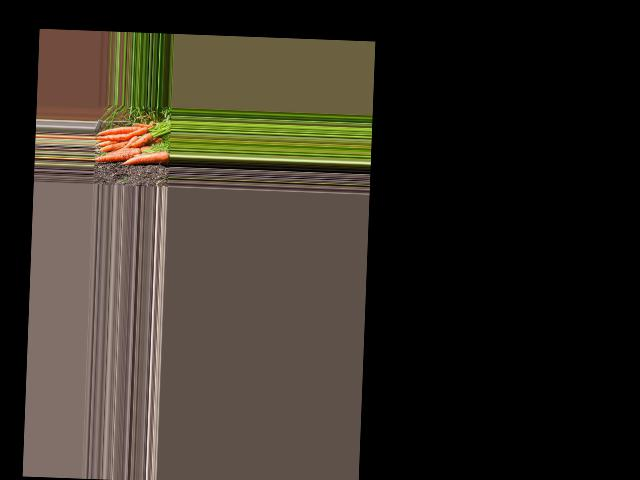carrot: (95, 125, 149, 141)
